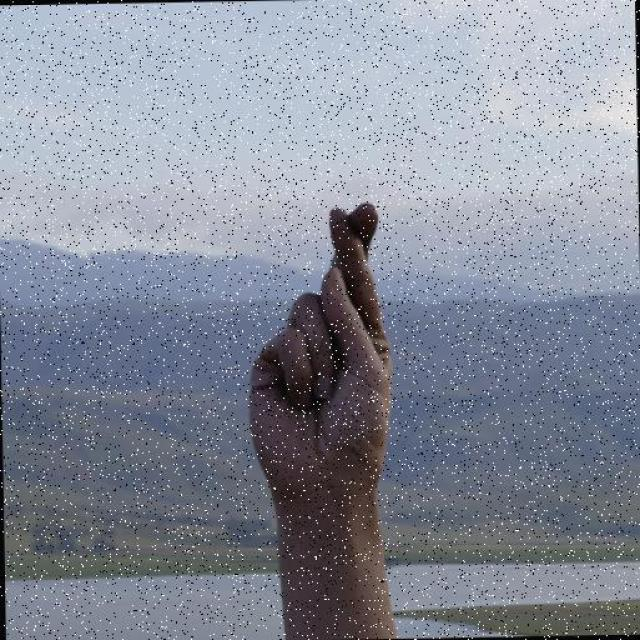R: (239, 198, 399, 503)
